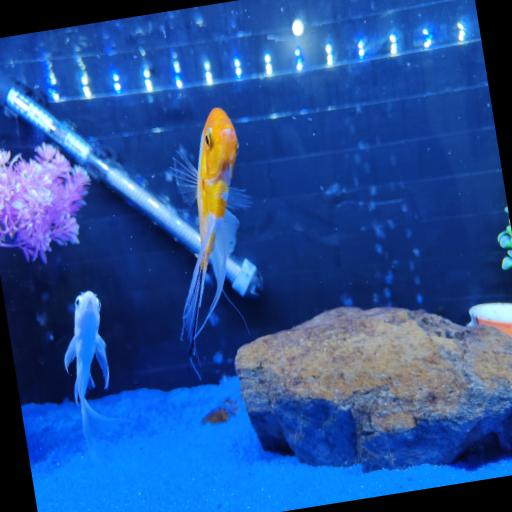Fish: (171, 108, 249, 369), (64, 291, 108, 446)
